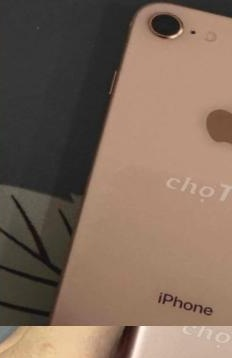scratch: (141, 6, 189, 44)
